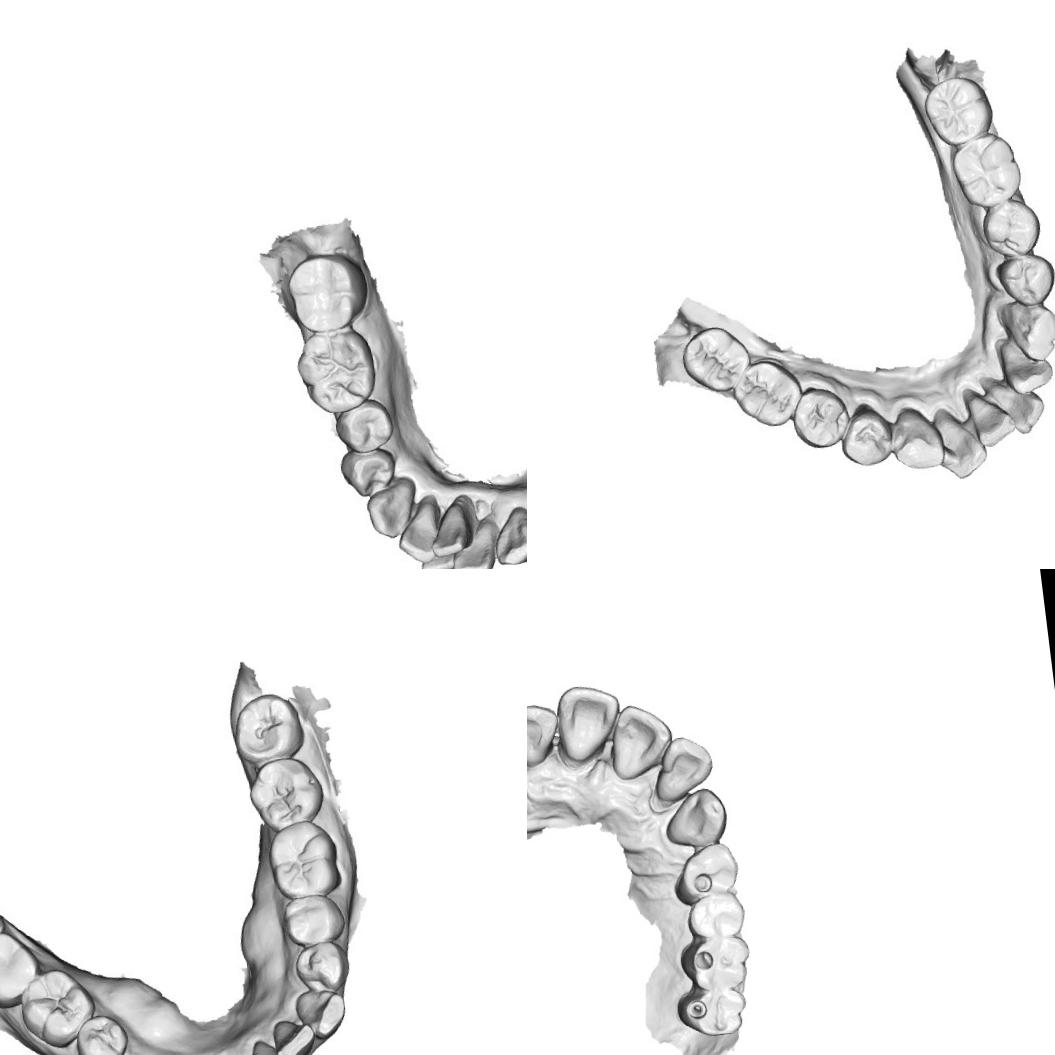canine: (660, 784, 731, 852), (886, 401, 948, 476), (995, 294, 1055, 367), (362, 476, 423, 542), (294, 982, 350, 1044), (488, 500, 527, 569)
incisor: (603, 698, 678, 784), (552, 680, 626, 765), (647, 732, 718, 804), (931, 403, 990, 483), (984, 375, 1049, 439), (995, 335, 1055, 398), (391, 498, 444, 566), (963, 390, 1020, 451), (423, 498, 476, 562), (446, 511, 500, 569), (527, 700, 563, 770), (271, 1016, 314, 1055), (416, 549, 460, 569), (248, 1044, 290, 1055)
molar: (292, 325, 383, 420), (284, 246, 376, 336), (15, 966, 94, 1052), (946, 130, 1028, 212), (918, 72, 998, 151), (730, 354, 808, 432), (677, 321, 756, 398), (229, 688, 306, 766), (241, 754, 320, 830), (267, 818, 340, 898), (678, 934, 754, 994), (674, 984, 752, 1042), (0, 929, 38, 1013)
premolar: (669, 840, 743, 906), (787, 382, 856, 452), (977, 198, 1046, 262), (836, 403, 897, 470), (330, 398, 398, 455), (991, 251, 1055, 311), (336, 444, 402, 501), (284, 890, 345, 948), (683, 889, 749, 942), (296, 938, 352, 998), (71, 1009, 130, 1055)
